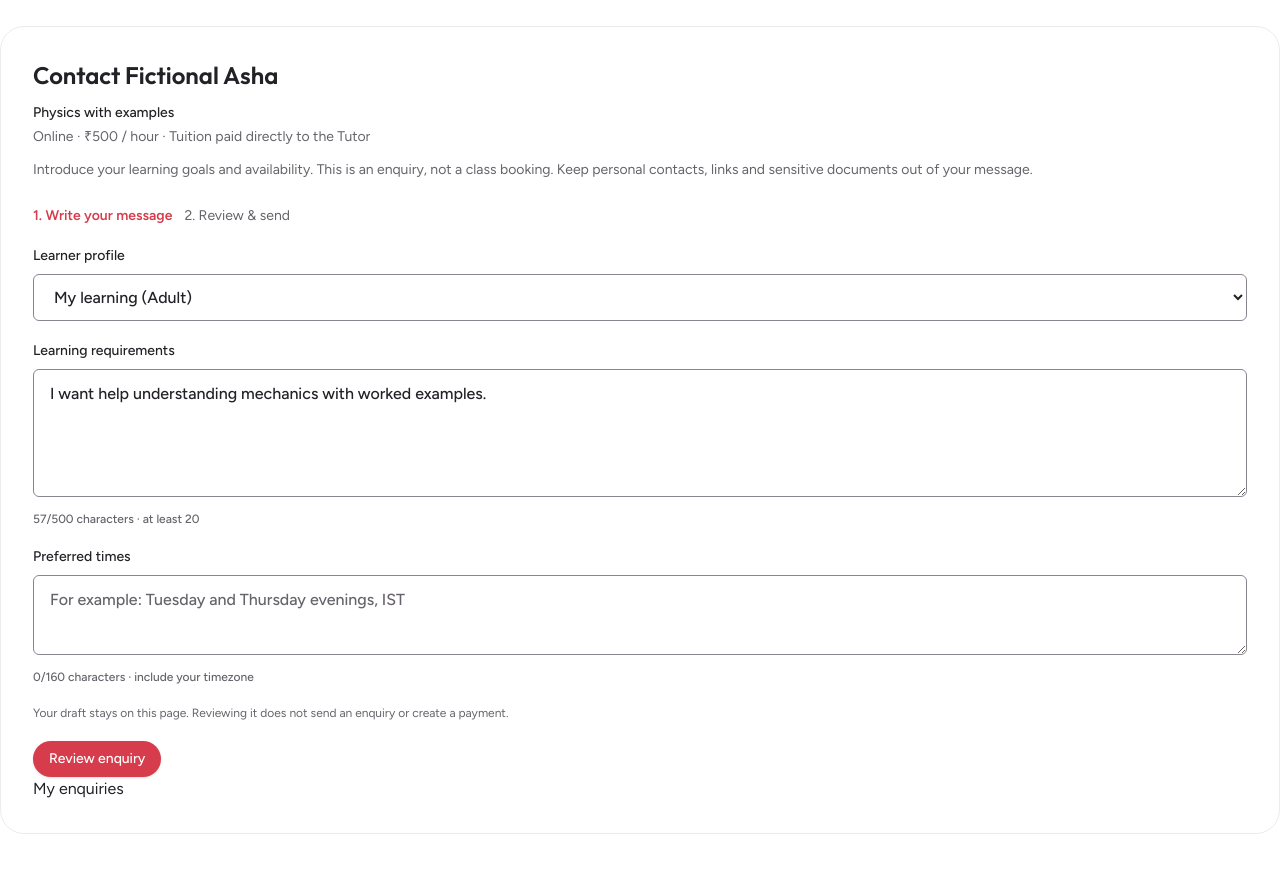
Scenario: keeps pending-limit and missing-Learner barriers without opening another checkout
Later steps or results of the test are not shown.
Type "Tuesday evening IST" into the text box labelled "Preferred times" at (640, 615), box [33,575,1247,655]
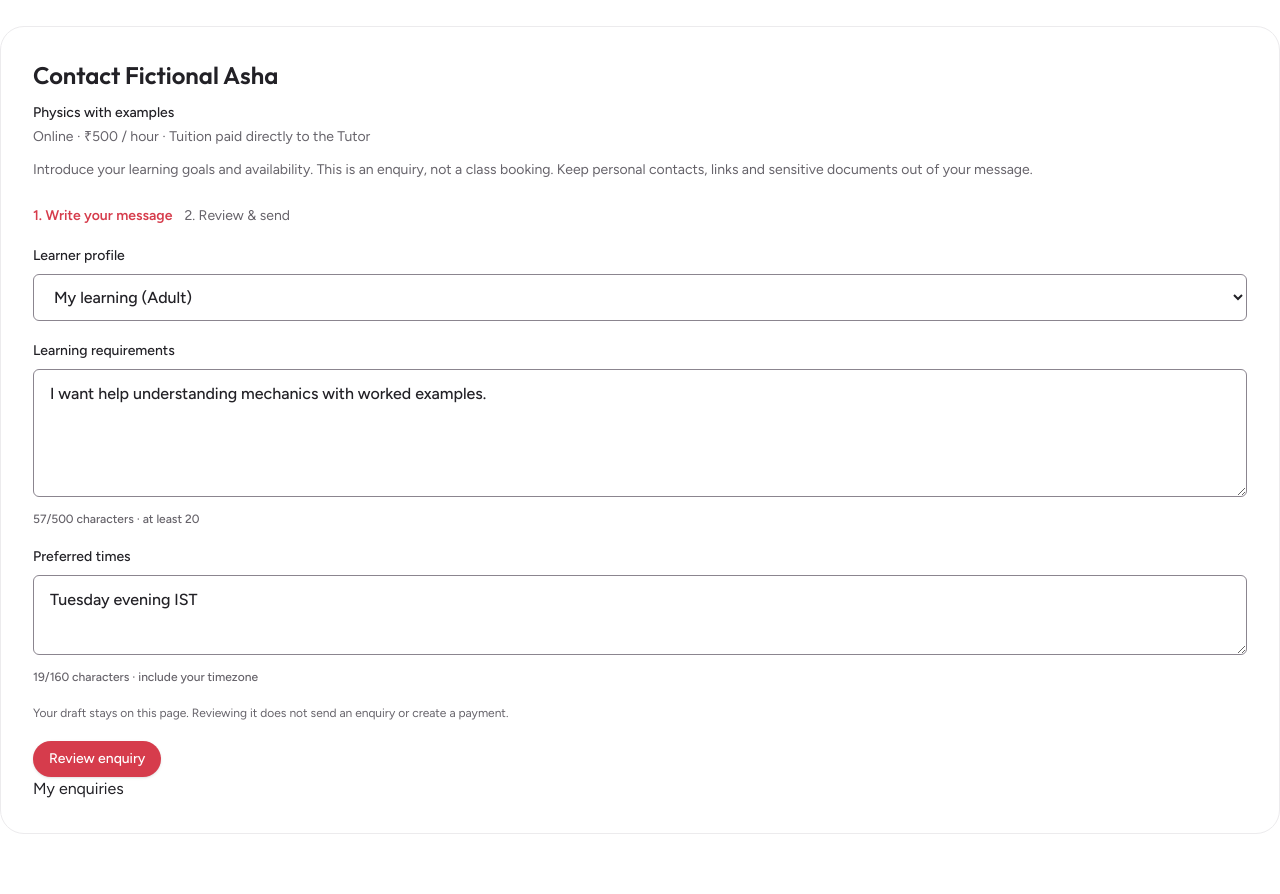
Click the button "Review enquiry" at (97, 759), box [33,741,161,777]
(page scrolled)
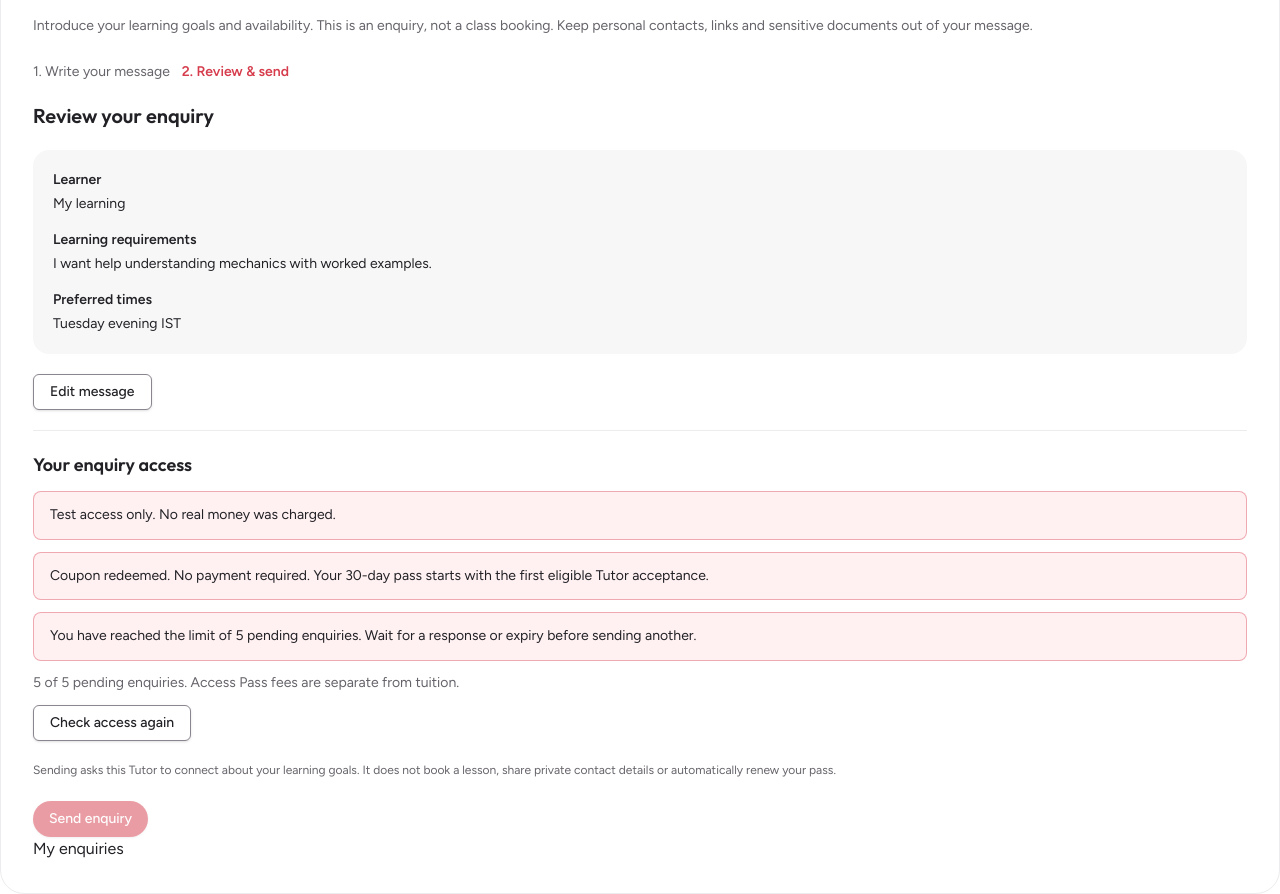
Check: the heading "Review your enquiry" is shown, box [33,103,214,128]
Check: the text "limit of 5 pending enquiries" is shown, box [50,627,696,644]
Check: the button "Send enquiry" is disabled, box [33,800,148,836]
